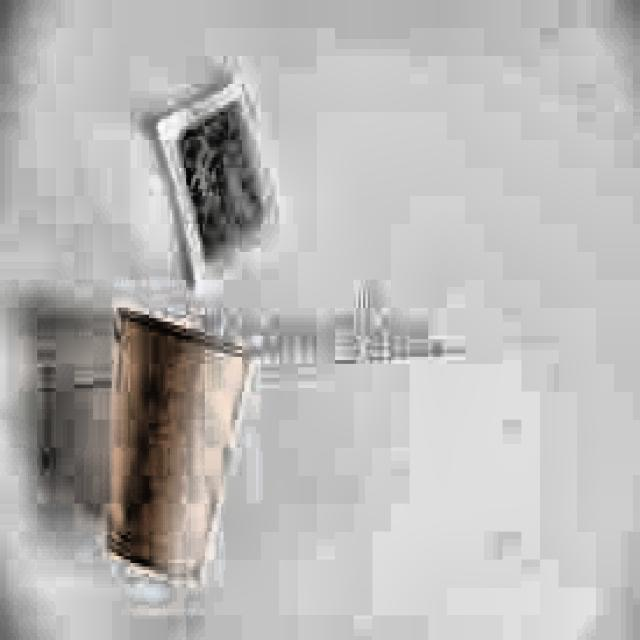Cup: (87, 299, 261, 595)
